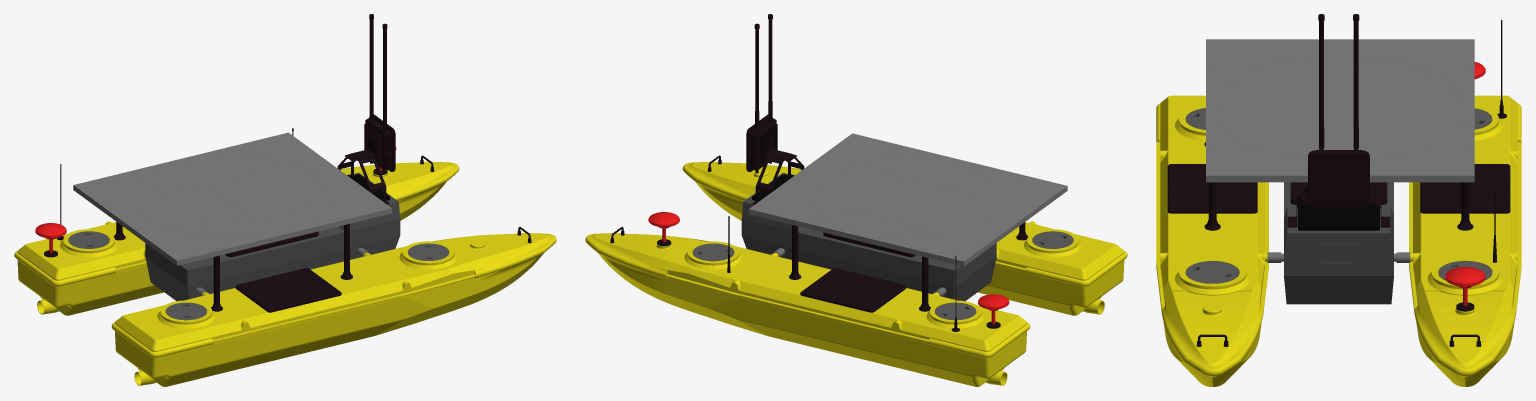
The model's file is body.dae.
3 renders of one model, left to right at view 1: azimuth 30°, elevation 25°; view 2: azimuth 150°, elevation 25°; view 3: azimuth 270°, elevation 25°, orthographic. The views are drawn at different scales.
Parts seen in each view (by area): view 1: boat_step1, boat_step9, boat_step, boat_step6, boat_step.001, boat_step3, boat_step5; view 2: boat_step, boat_step9, boat_step1, boat_step6, boat_step.001, boat_step3, boat_step5; view 3: boat_step9, boat_step1, boat_step, boat_step.001, boat_step6, boat_step3, boat_step7, boat_step5, boat_step2.
Boxes of the visible parts, x1,y1,x2,y2 form: boat_step1: [111, 233, 556, 386]; boat_step9: [73, 132, 391, 265]; boat_step: [14, 161, 459, 315]; boat_step6: [145, 172, 400, 301]; boat_step.001: [44, 14, 531, 312]; boat_step3: [68, 231, 449, 320]; boat_step5: [35, 147, 396, 252]; boat_step: [585, 233, 1030, 386]; boat_step9: [749, 133, 1067, 266]; boat_step1: [682, 162, 1127, 315]; boat_step6: [741, 172, 996, 301]; boat_step.001: [610, 14, 1028, 331]; boat_step3: [692, 231, 1073, 320]; boat_step5: [648, 212, 1009, 324]; boat_step9: [1206, 39, 1474, 182]; boat_step1: [1156, 95, 1268, 386]; boat_step: [1409, 95, 1521, 386]; boat_step.001: [1167, 14, 1510, 346]; boat_step6: [1284, 182, 1393, 304]; boat_step3: [1185, 108, 1492, 283]; boat_step7: [1298, 205, 1379, 230]; boat_step5: [1445, 62, 1485, 305]; boat_step2: [1267, 252, 1410, 262].
Size of the model in its own units: 23.66 by 13.6 by 13.88.
